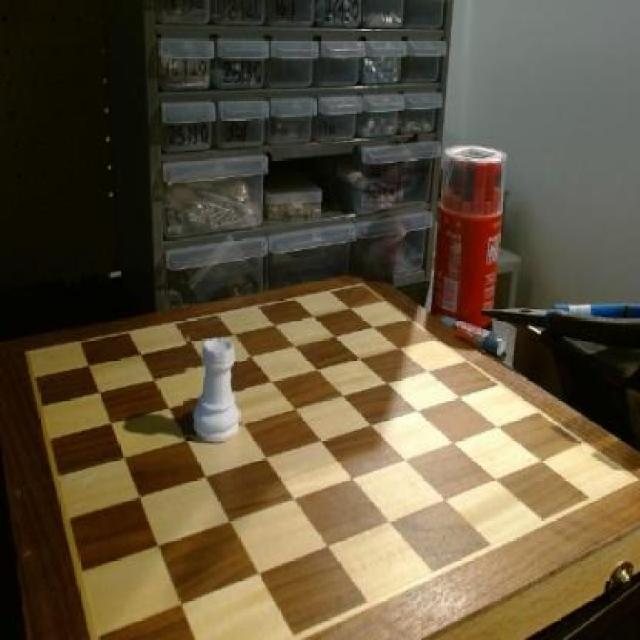white-queen: (182, 334, 246, 443)
